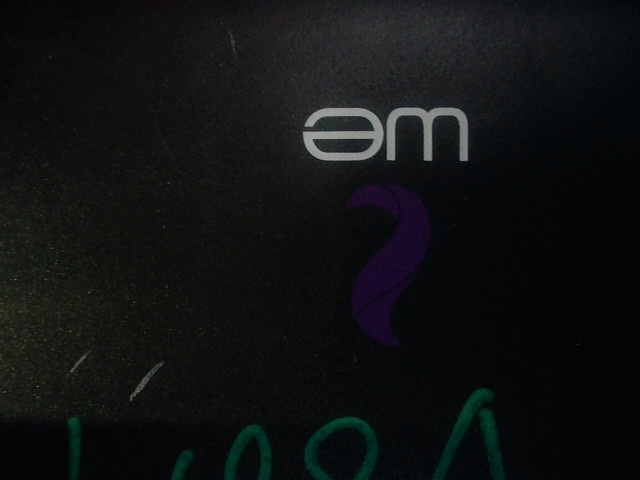AT_We: (284, 99, 484, 349)
